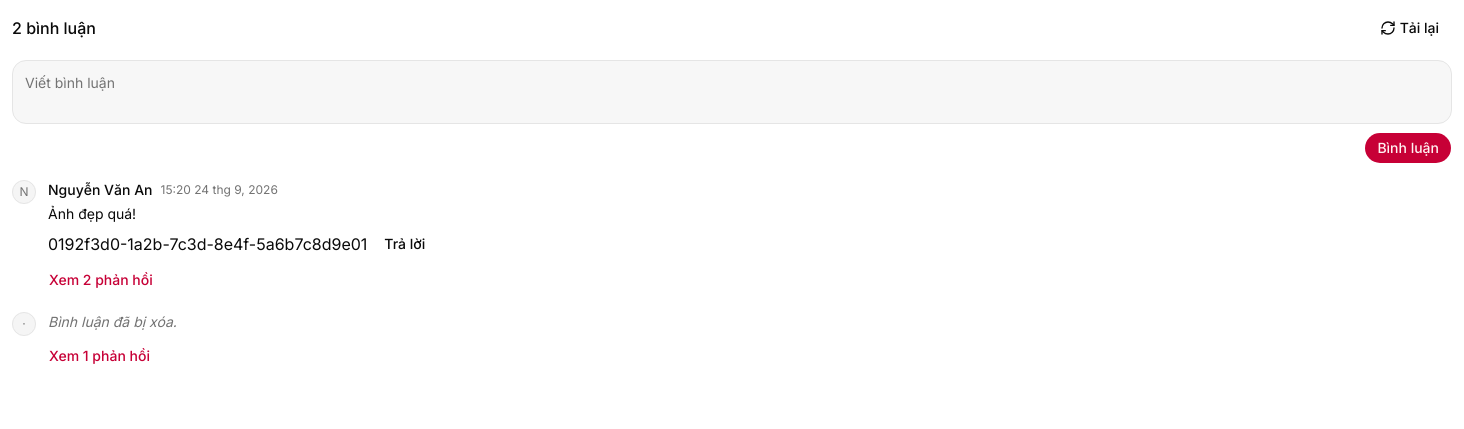
CommentThread › bấm 'Xem N phản hồi' mới tải nhánh (Đ-3.6) — với limit 10
Expected: the number of list items with test id "comment" is 2, 12,180 -> 438,296; 12,312 -> 177,372
Click the button "Xem 2 phản hồi": point(101, 280) 48,264 -> 154,296
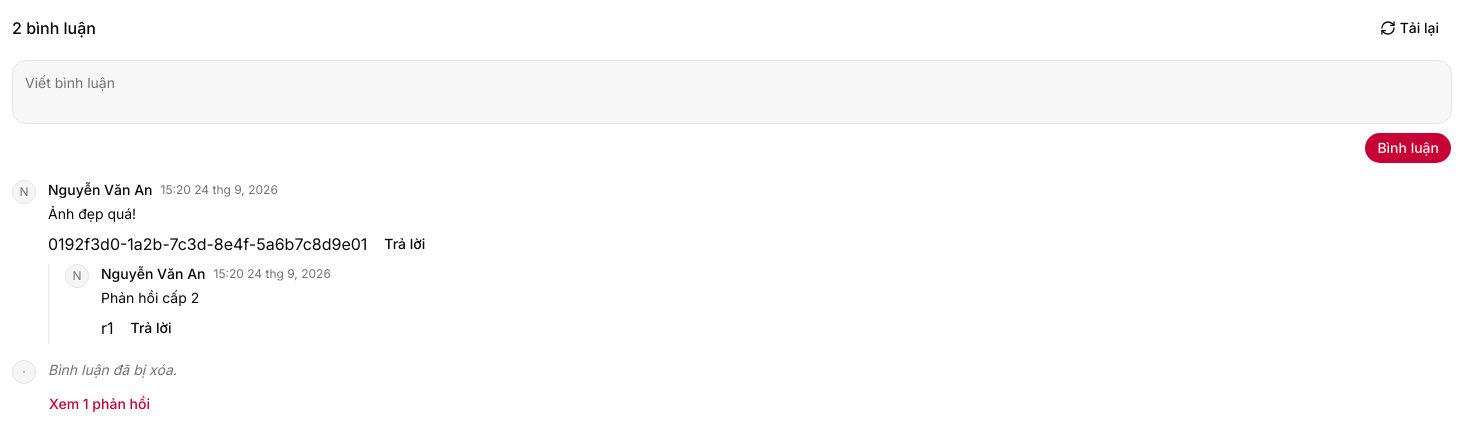
Now the text "Phản hồi cấp 2" is shown, box 101,289 -> 199,306
